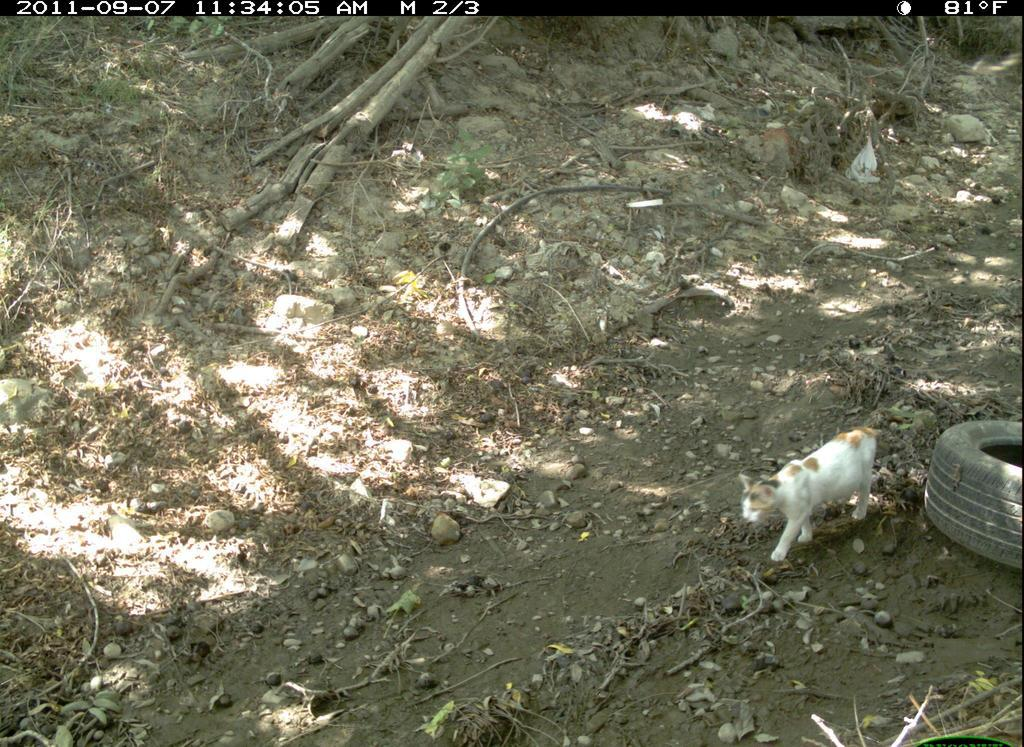cat: (733, 422, 893, 566)
